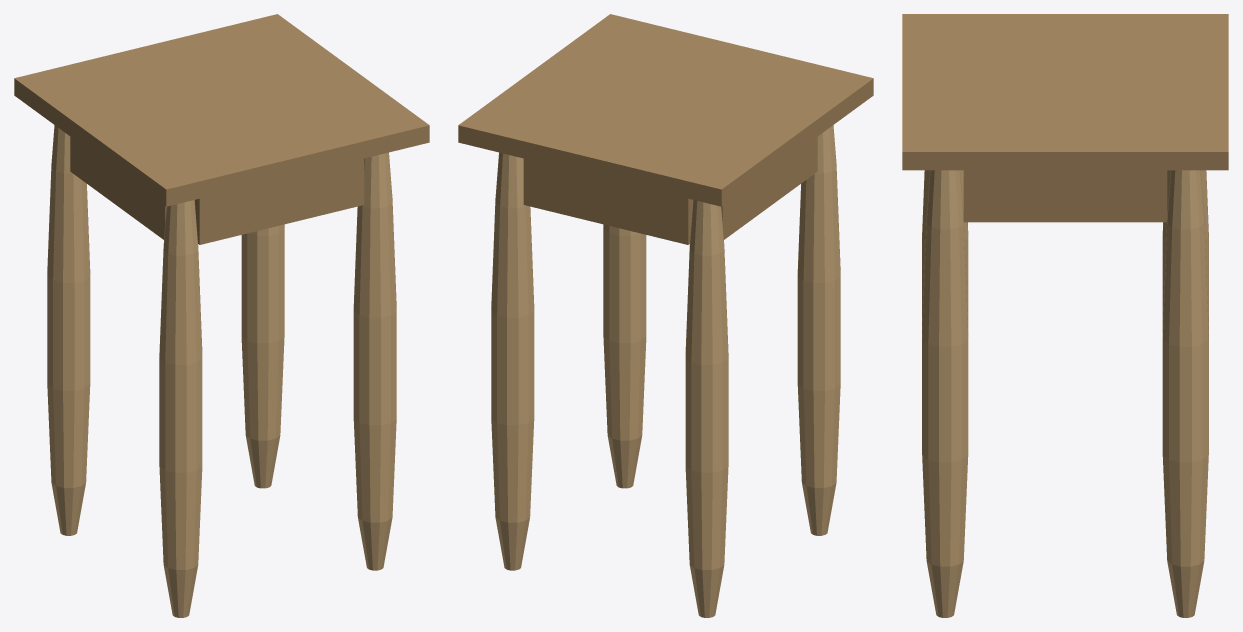
File: SAB-STL-counter.glb
3 renders of one model, left to right at view 1: azimuth 30°, elevation 25°; view 2: azimuth 150°, elevation 25°; view 3: azimuth 270°, elevation 25°, orthographic. The views are drawn at different scales.
Parts seen in each view (by area): view 1: top:pbr, leg-fl:pbr, leg-fr:pbr, leg-bl:pbr, leg-br:pbr, apron-f:pbr, apron-l:pbr; view 2: top:pbr, leg-bl:pbr, leg-br:pbr, leg-fl:pbr, leg-fr:pbr, apron-b:pbr, apron-l:pbr; view 3: top:pbr, leg-fr:pbr, leg-br:pbr, apron-r:pbr, leg-fl:pbr, leg-bl:pbr.
Boxes of the visible parts, x1,y1,x2,y2 form: top:pbr: (14,14,429,206); leg-fl:pbr: (159,200,202,617); leg-fr:pbr: (353,152,396,570); leg-bl:pbr: (47,125,90,535); leg-br:pbr: (241,224,284,488); apron-f:pbr: (194,158,364,244); apron-l:pbr: (70,137,166,239); top:pbr: (458,14,873,206); leg-bl:pbr: (685,200,728,617); leg-br:pbr: (491,152,534,570); leg-fl:pbr: (797,125,840,535); leg-fr:pbr: (603,224,646,488); apron-b:pbr: (523,158,693,244); apron-l:pbr: (721,137,817,239); top:pbr: (902,14,1228,170); leg-fr:pbr: (922,170,968,617); leg-br:pbr: (1162,170,1208,617); apron-r:pbr: (963,170,1167,222); leg-fl:pbr: (922,170,968,333); leg-bl:pbr: (1162,170,1208,333).
Size of the model in its own units: 0.4 by 0.65 by 0.4.
